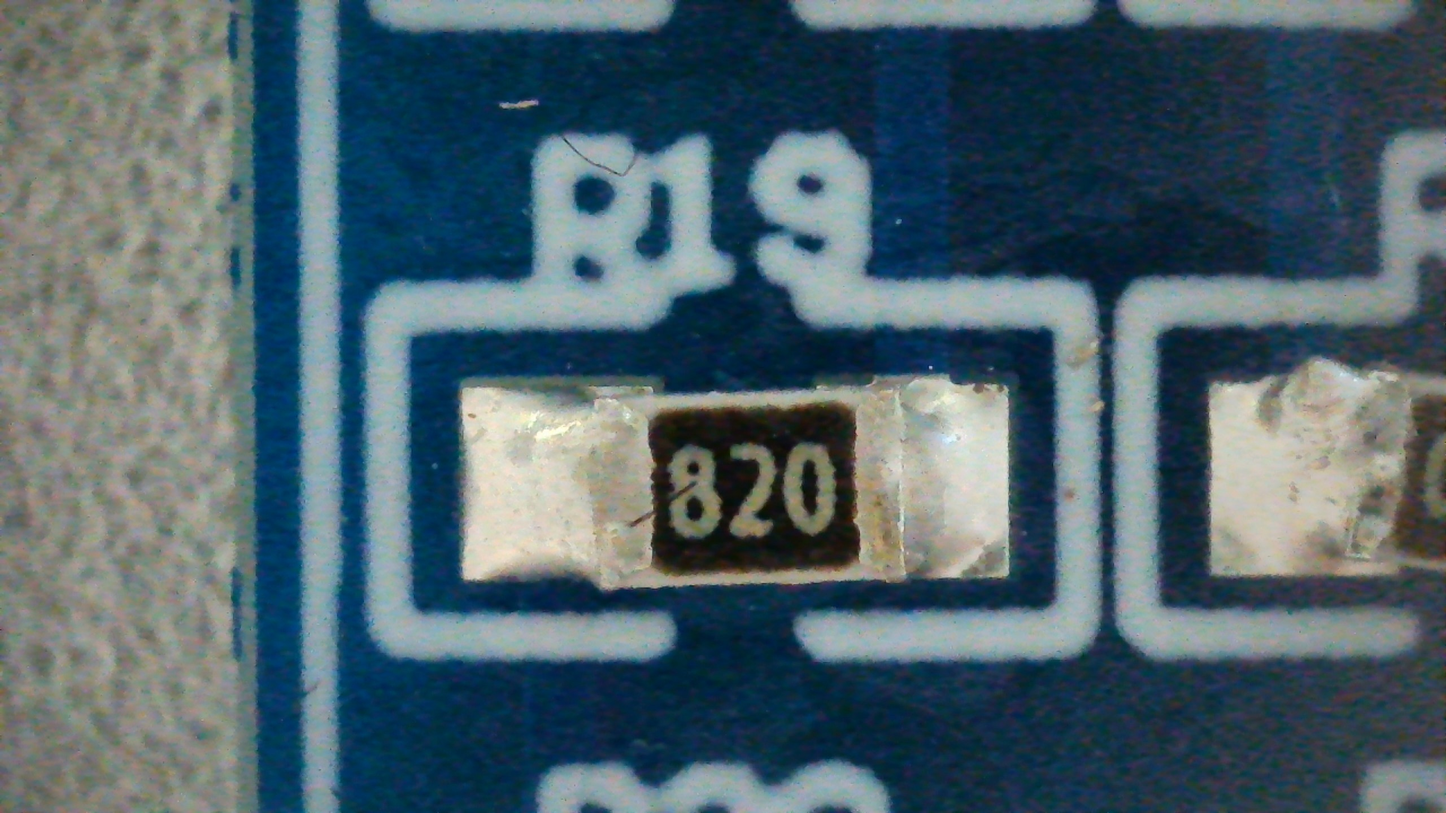NG: (463, 378, 1009, 591)
